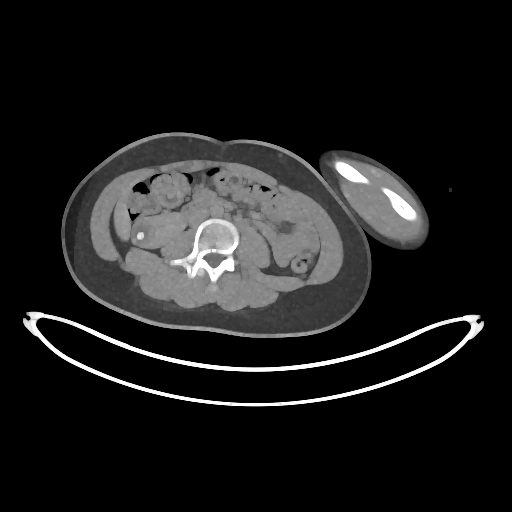Lesion: (132, 228, 150, 241)
